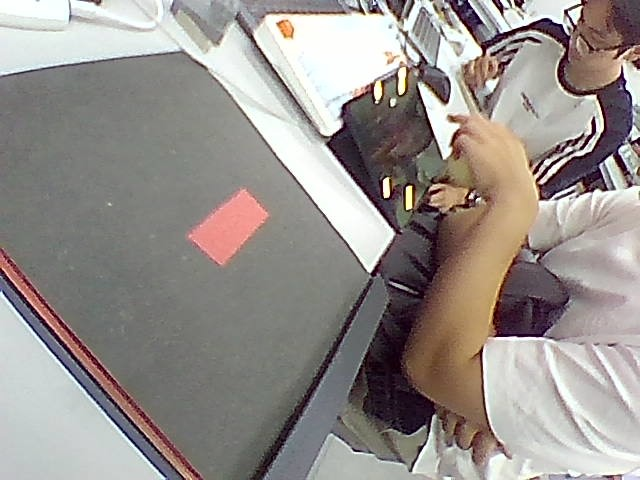card: (189, 189, 268, 265)
